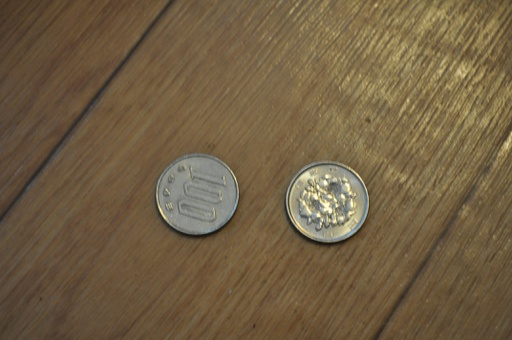100yen: (285, 161, 369, 244), (155, 154, 239, 236)
